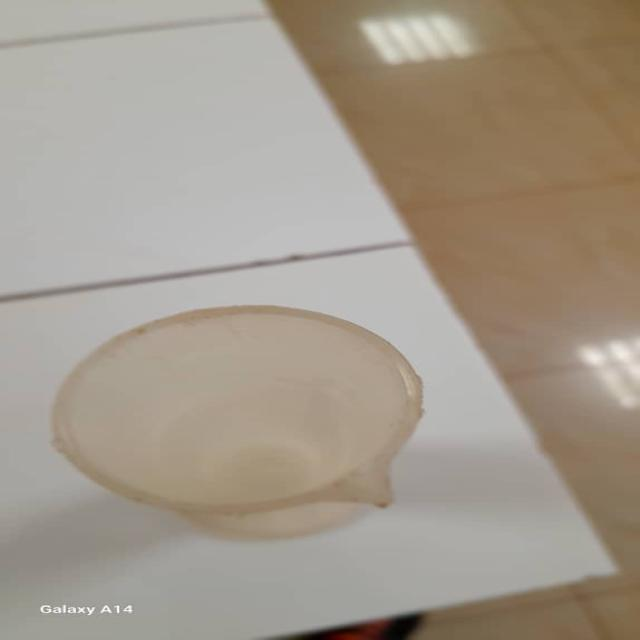Beakers: (44, 301, 444, 527)
